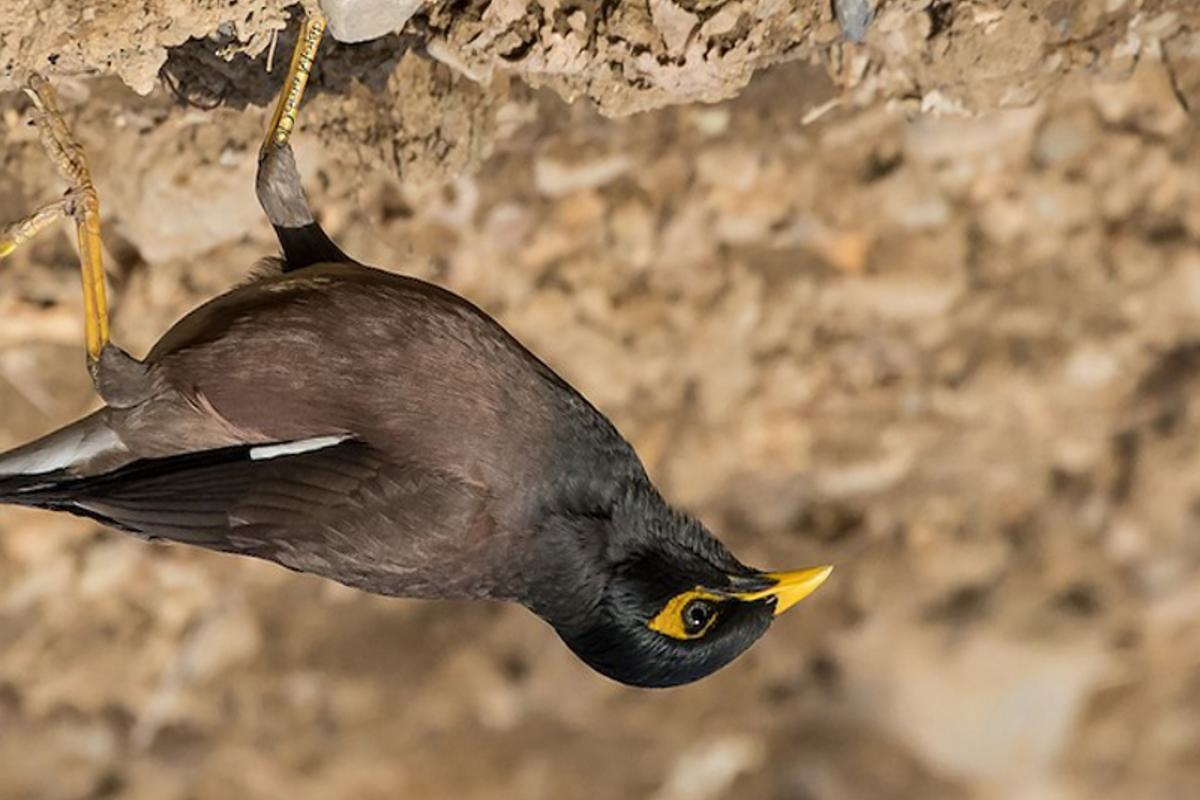myna: (40, 108, 849, 691)
